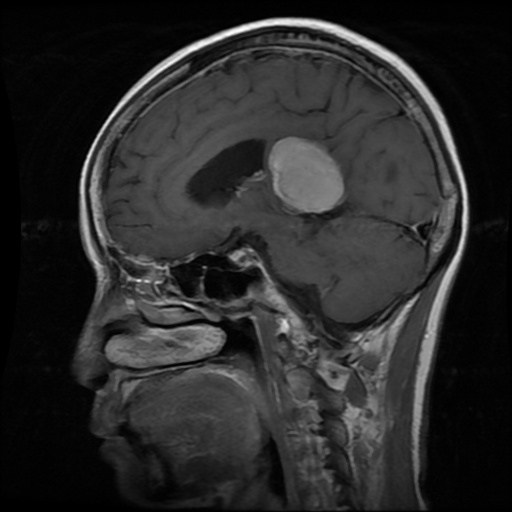meningioma: (268, 134, 347, 215)
